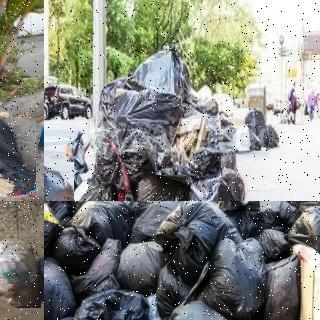Garbage: (154, 201, 238, 282), (208, 237, 268, 320), (92, 124, 155, 195), (182, 150, 247, 201), (0, 116, 39, 199), (45, 289, 146, 320), (0, 237, 43, 309), (114, 241, 163, 291), (55, 224, 97, 275), (286, 204, 320, 261), (122, 172, 188, 201), (161, 300, 247, 320), (44, 160, 76, 201), (257, 124, 278, 148), (244, 109, 265, 133)
